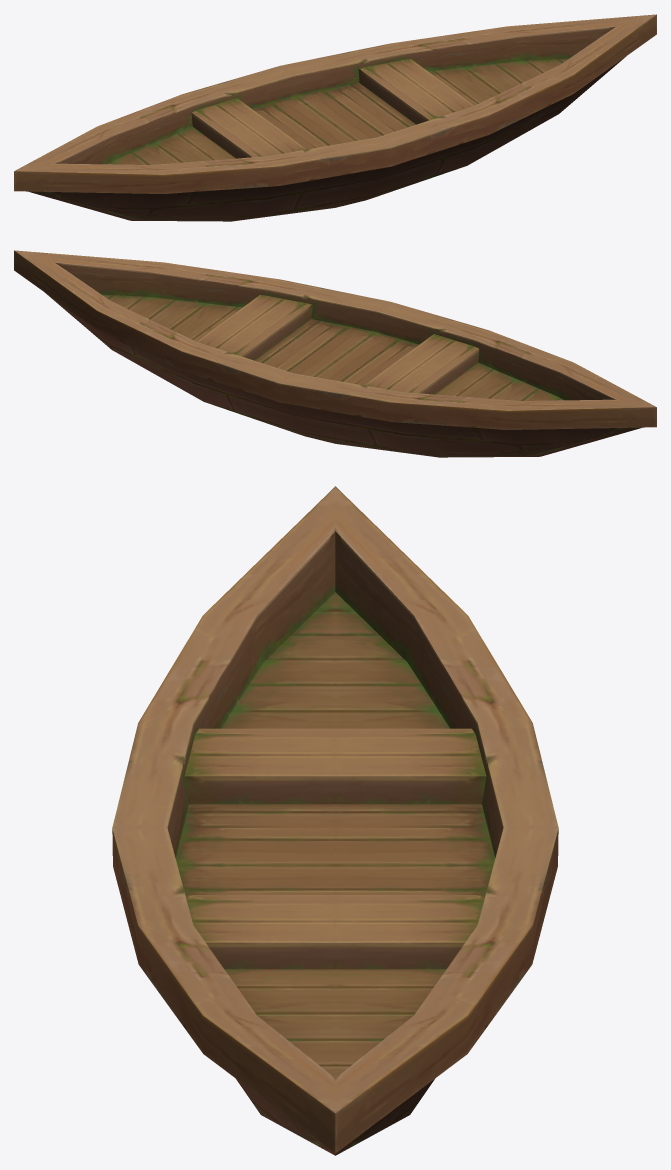
The model's file is scene_lawennushandao_chuan02.FBX.
The picture shows the model from 3 angles, top to bottom: view 1: azimuth 30°, elevation 25°; view 2: azimuth 150°, elevation 25°; view 3: azimuth 270°, elevation 25°; orthographic projection. The views are drawn at different scales.
Visible parts, largest first — view 1: scene_lawennushandao_chuan02; view 2: scene_lawennushandao_chuan02; view 3: scene_lawennushandao_chuan02.
Part boxes in pixels (x1,y1,x2,y2): scene_lawennushandao_chuan02: (14, 14, 656, 221); scene_lawennushandao_chuan02: (14, 250, 656, 457); scene_lawennushandao_chuan02: (112, 486, 558, 1155).
Size of the model in its own units: 655 by 112 by 197.
